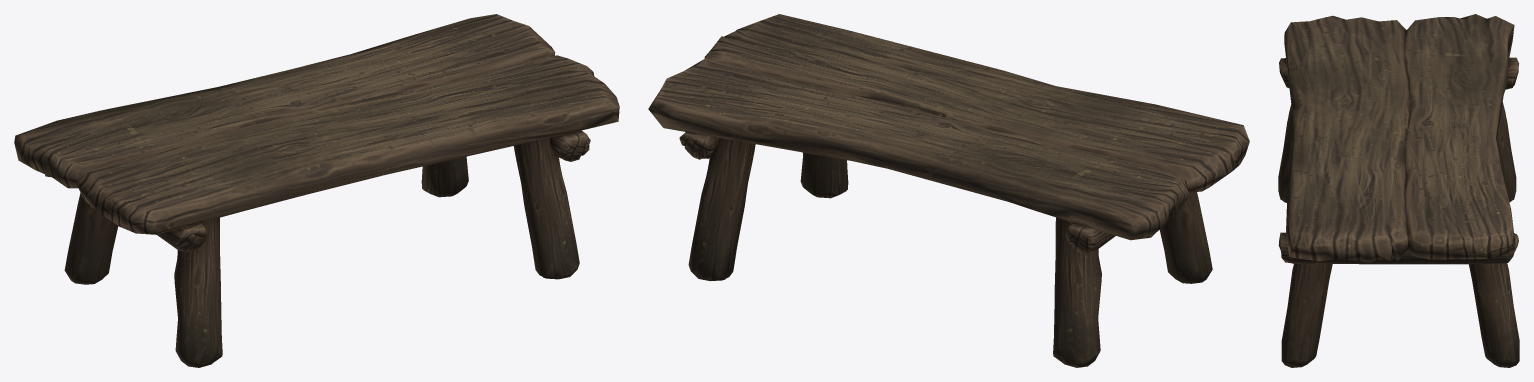
Rendered from MSH_fwOF_Camp_Table.fbx.
3 views of the same model, side by side, from view 1: azimuth 30°, elevation 25°; view 2: azimuth 150°, elevation 25°; view 3: azimuth 270°, elevation 25° (orthographic). The views are drawn at different scales.
Visible parts, largest first — view 1: MSH_fwOF_Camp_Table_LOD0; view 2: MSH_fwOF_Camp_Table_LOD0; view 3: MSH_fwOF_Camp_Table_LOD0.
Part boxes in pixels (bbox=[...]): MSH_fwOF_Camp_Table_LOD0: bbox=[14, 14, 619, 367]; MSH_fwOF_Camp_Table_LOD0: bbox=[648, 14, 1249, 367]; MSH_fwOF_Camp_Table_LOD0: bbox=[1278, 14, 1519, 367].
Size of what is drawn, in the model's own units: 2.42 by 0.762 by 1.08.
